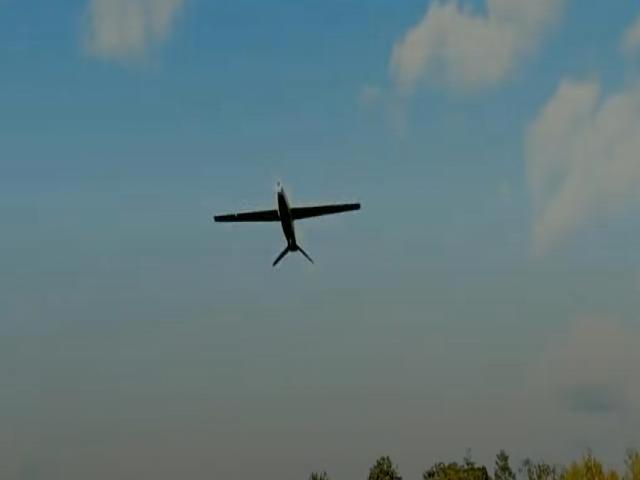iha: (208, 176, 365, 267)
